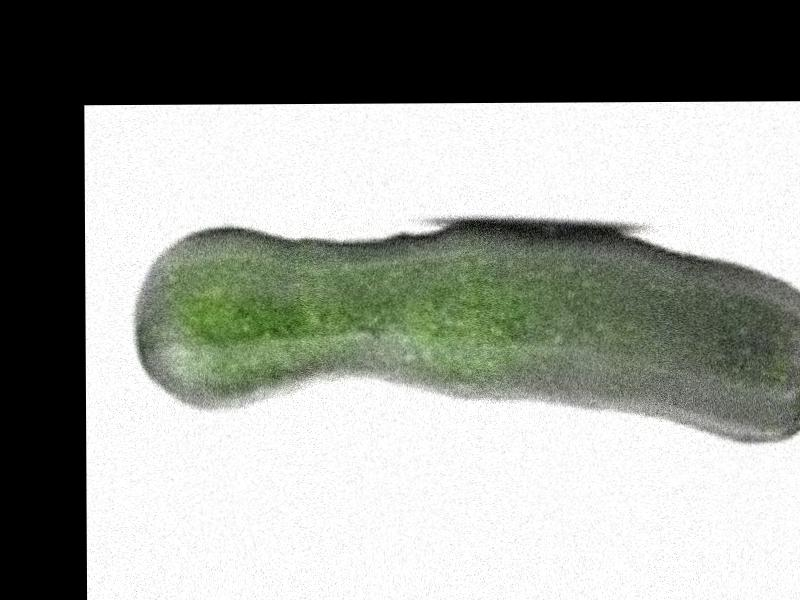Cucumber: (134, 222, 800, 448)
